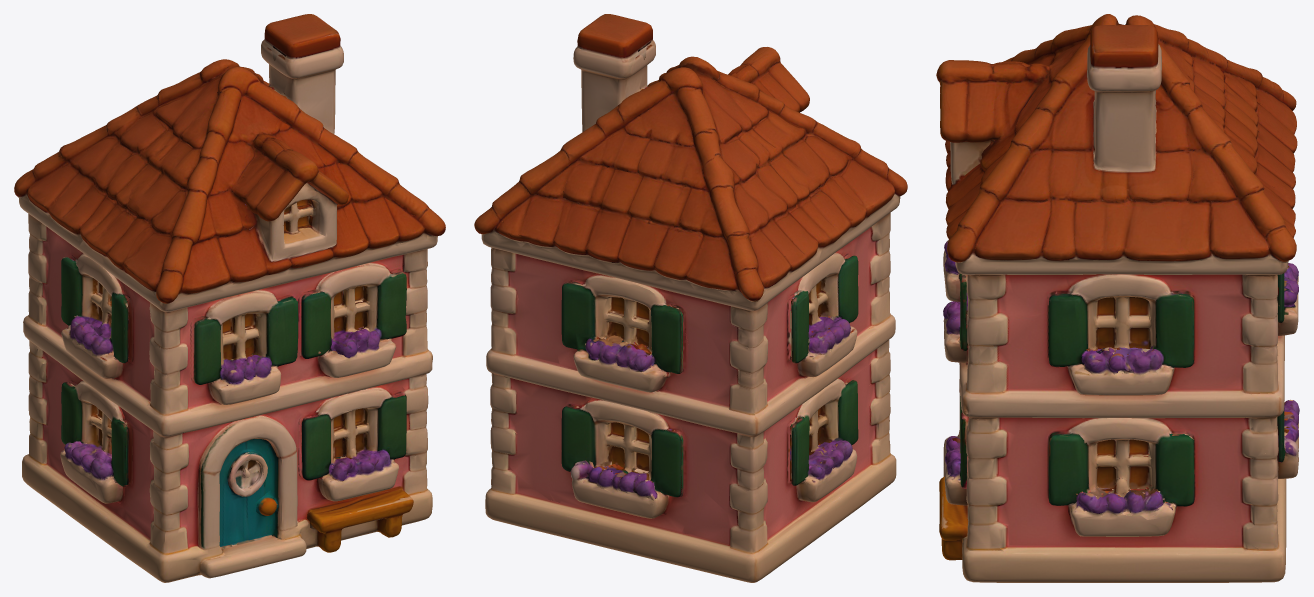
File: ck_house_d.glb
The picture shows the model from 3 angles, left to right: view 1: azimuth 30°, elevation 25°; view 2: azimuth 150°, elevation 25°; view 3: azimuth 270°, elevation 25°; orthographic projection. The views are drawn at different scales.
Parts seen in each view (by area): view 1: ck_house_d; view 2: ck_house_d; view 3: ck_house_d.
Boxes of the visible parts, x1,y1,x2,y2 form: ck_house_d: [14, 14, 445, 582]; ck_house_d: [474, 14, 907, 582]; ck_house_d: [936, 14, 1299, 582].
Size of the model in its own units: 1.35 by 1.97 by 1.26.
1 material, 1 textured.
